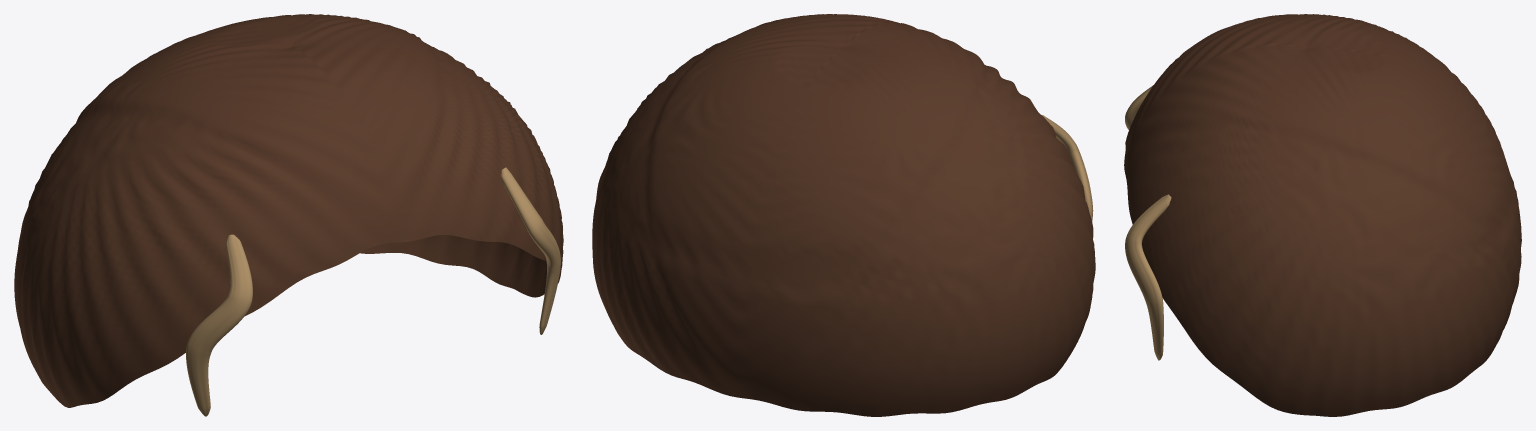
Rendered from Highlights-9c5d5555f5be251-hair.glb.
3 views of the same model, side by side, from view 1: azimuth 30°, elevation 25°; view 2: azimuth 150°, elevation 25°; view 3: azimuth 270°, elevation 25° (orthographic). The views are drawn at different scales.
Visible parts, largest first — view 1: 226 hair / Hair / chestnut226.002; view 2: 226 hair / Hair / chestnut226.002; view 3: 226 hair / Hair / chestnut226.002.
Part boxes in pixels (x1=…): 226 hair / Hair / chestnut226.002: x1=14, y1=14, x2=563, y2=416; 226 hair / Hair / chestnut226.002: x1=592, y1=14, x2=1095, y2=416; 226 hair / Hair / chestnut226.002: x1=1124, y1=14, x2=1521, y2=416.
Bounding box in the file's own units: 0.9988 × 0.599 × 0.7845.
